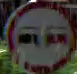No overtake: (4, 2, 75, 73)
